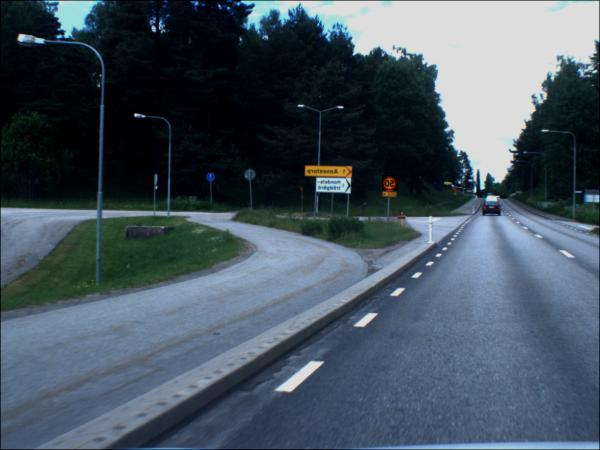50_SIGN: (382, 177, 399, 193)
